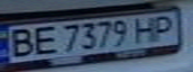3: (78, 20, 100, 51)
7: (57, 21, 81, 54), (93, 18, 115, 48)
9: (109, 17, 136, 47)
B: (3, 25, 39, 58)
E: (27, 24, 60, 56)
H: (130, 15, 163, 44)
P: (148, 14, 181, 40)
